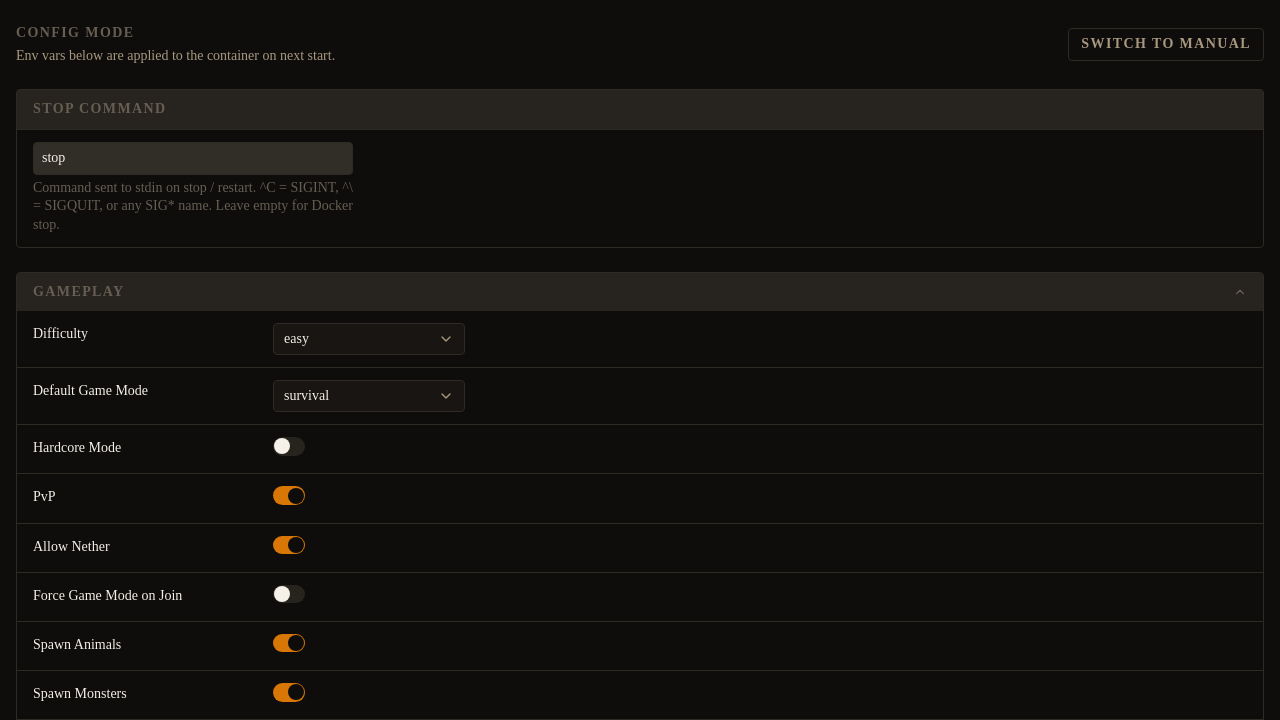
Config Mode Toggle › clicking Switch to Manual opens confirm dialog
Click the button "Switch to Manual" at {"x": 1166, "y": 45}, box [1068,28,1264,61]
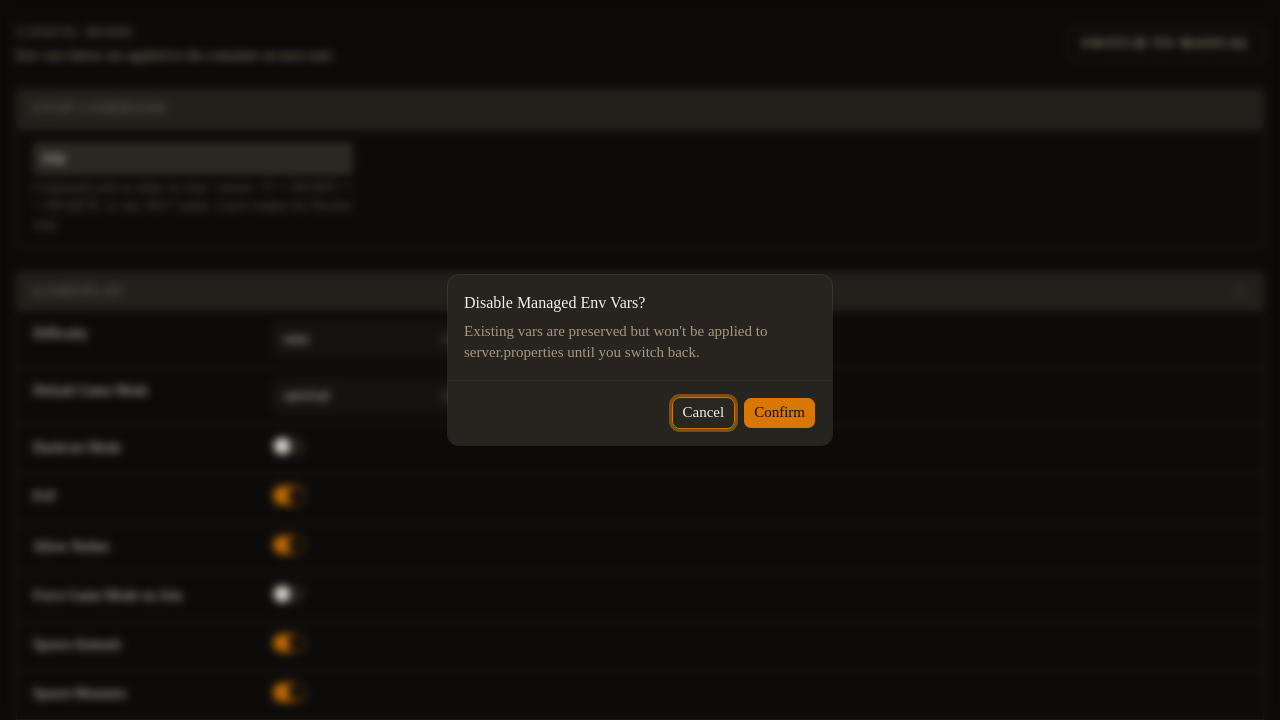
Expected: the heading "Disable Managed Env Vars?" is shown, [464,291,645,315]
